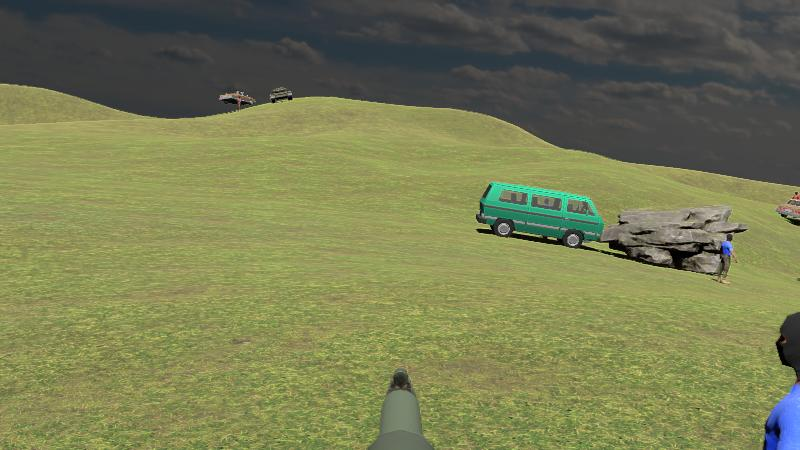Human: (716, 232, 737, 286)
car: (476, 182, 603, 249), (776, 198, 800, 227)
